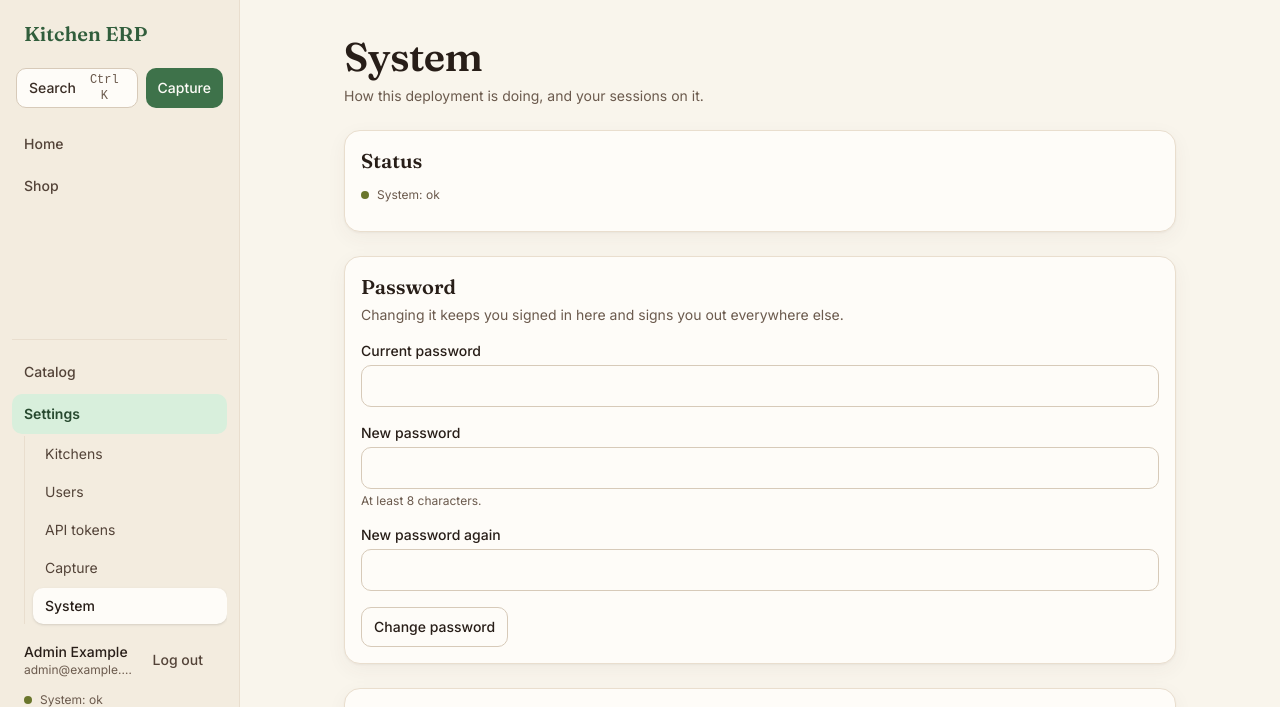
Test: Capture (UI-2.10) › offers the three modes and closes on Escape
Check: the heading "System" is shown, box top-left (344, 32), bottom-right (482, 81)
Click the button "Capture". click: (184, 88)
box: top-left (146, 68), bottom-right (223, 108)
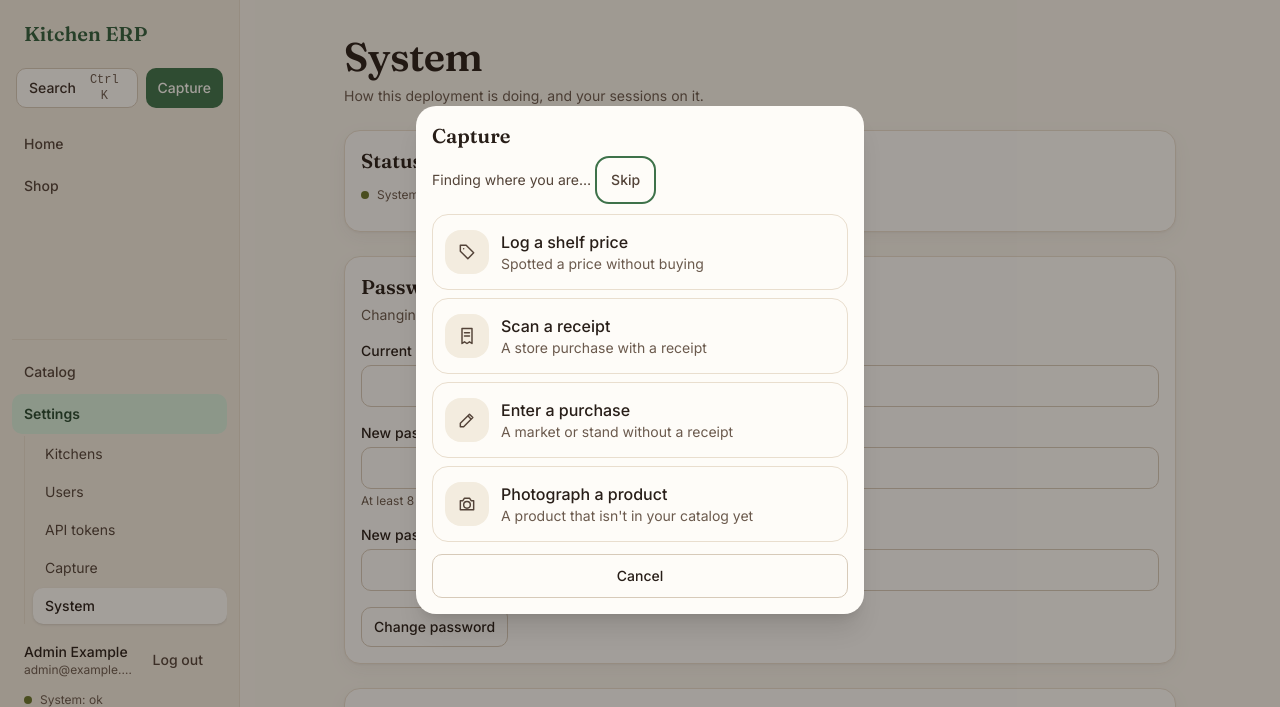
Press Escape
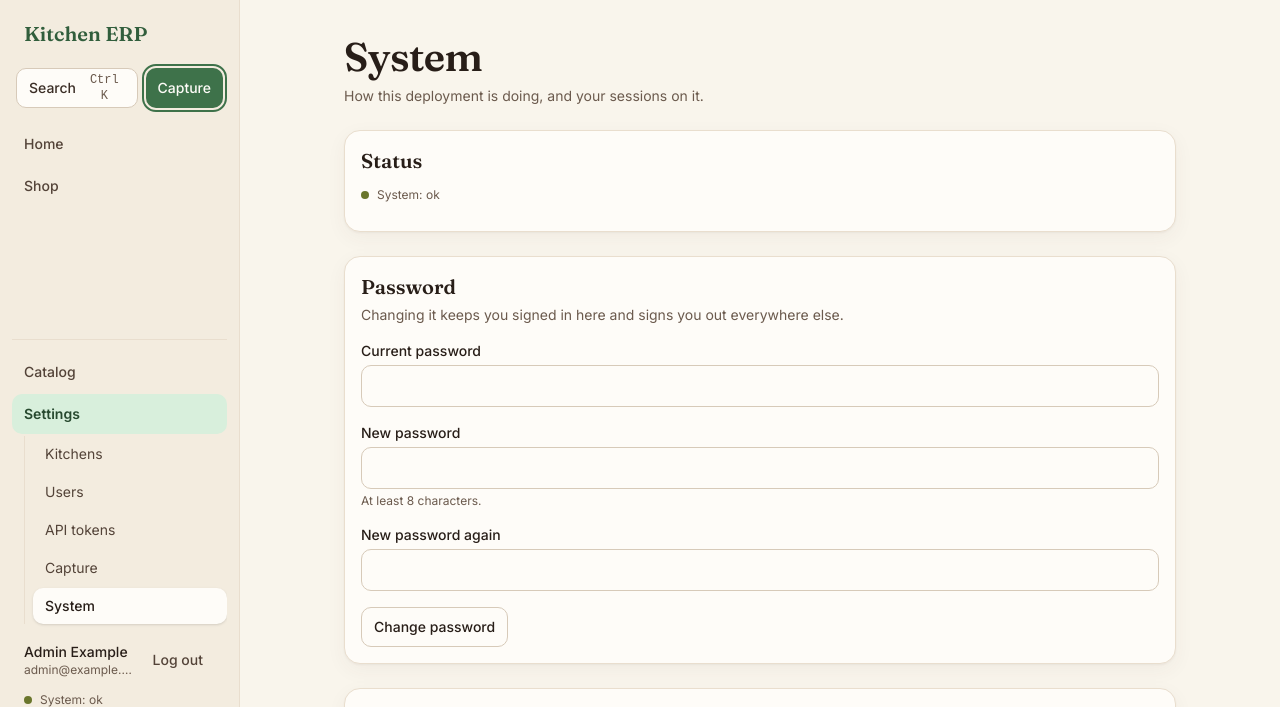
Check: the dialog is gone
